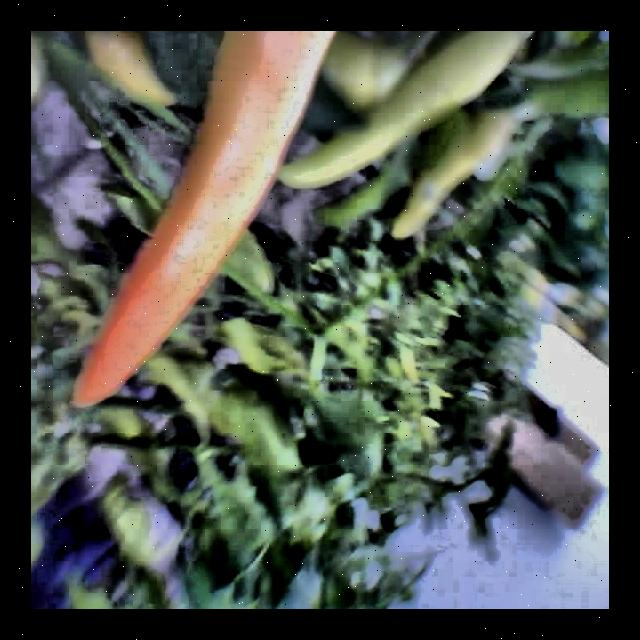Cabai: (65, 31, 318, 411), (341, 31, 521, 212)
